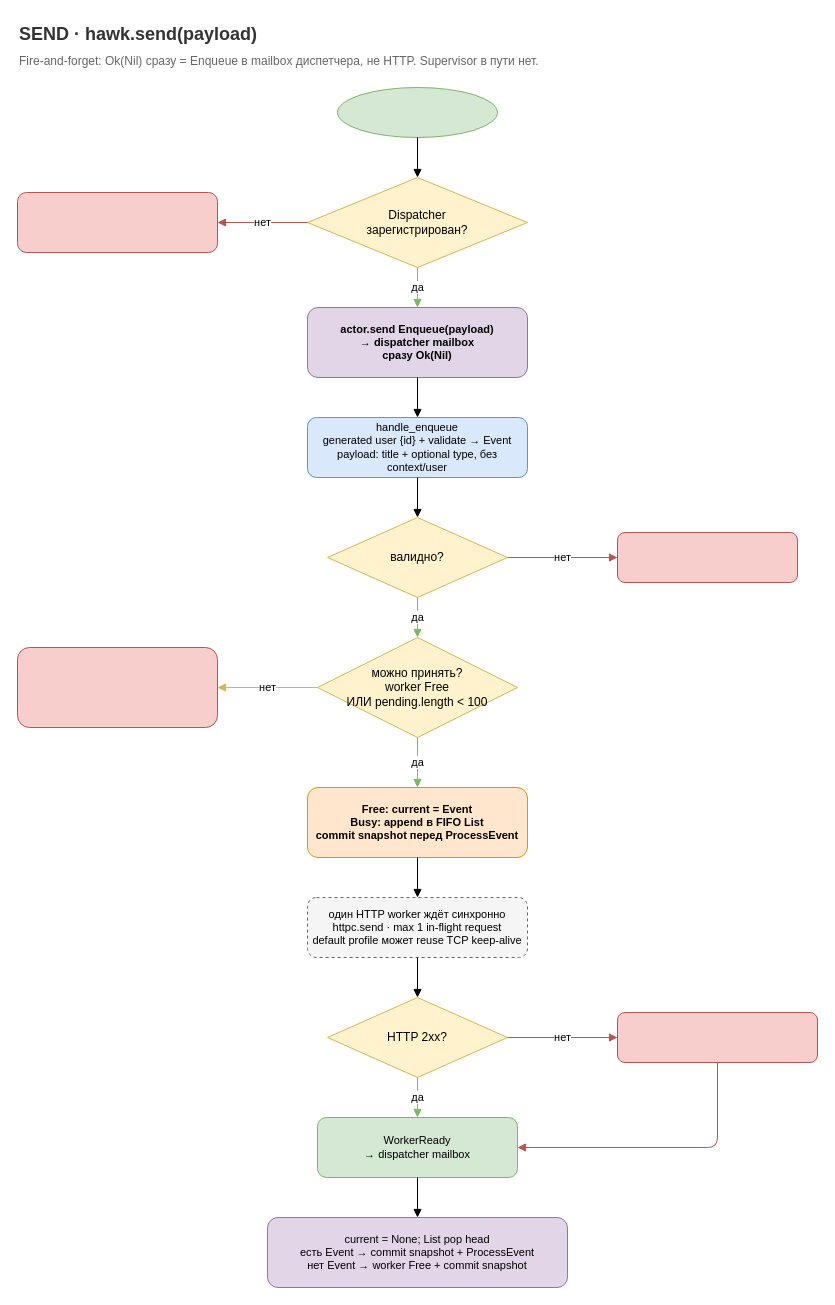
Image size: 835x1305. Some labels were removed from this diagram. Each missing label, with the centre of its shape:
Error Hawk is not initialized: [117,222]
hawk.send: [417,112]
log error event not delivered: [717,1037]
log error, drop: [707,557]
pending full (100) log error, drop newest State.pending не растёт: [117,687]
